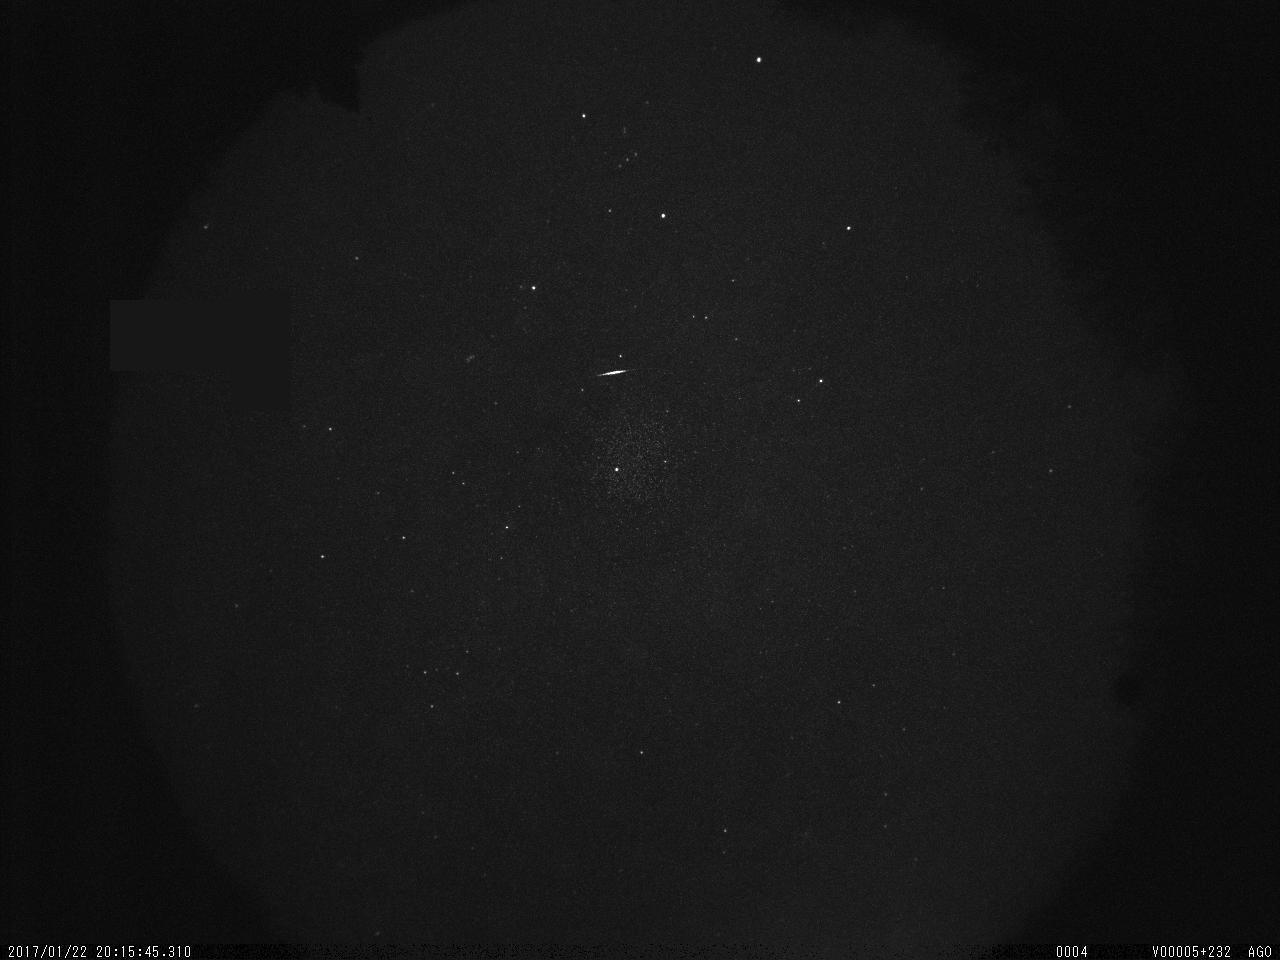meteor: (589, 361, 645, 383)
